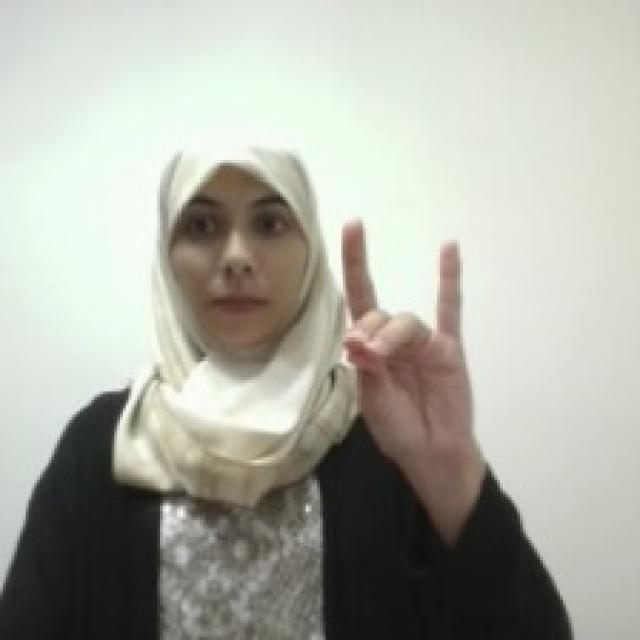Dog: (334, 206, 480, 457)
